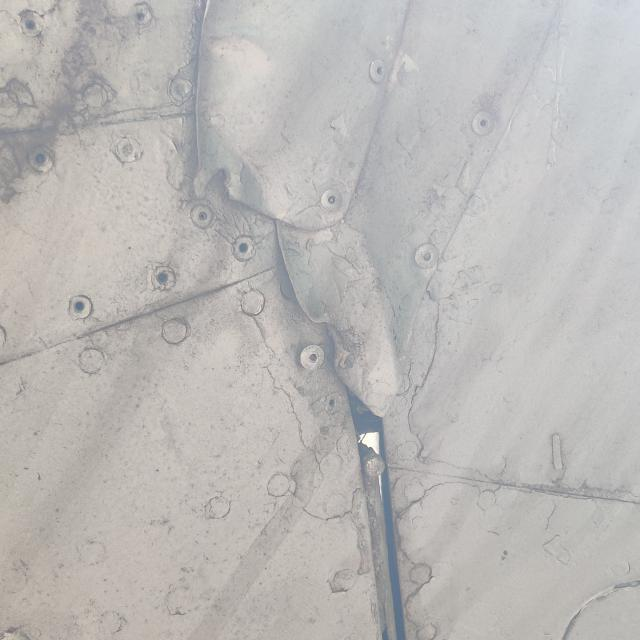Crack: (328, 325, 355, 370)
